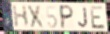5: (45, 5, 58, 29)
E: (89, 5, 106, 30)
H: (12, 4, 29, 29)
J: (78, 7, 89, 29)
P: (59, 5, 74, 30)
X: (27, 4, 47, 30)
